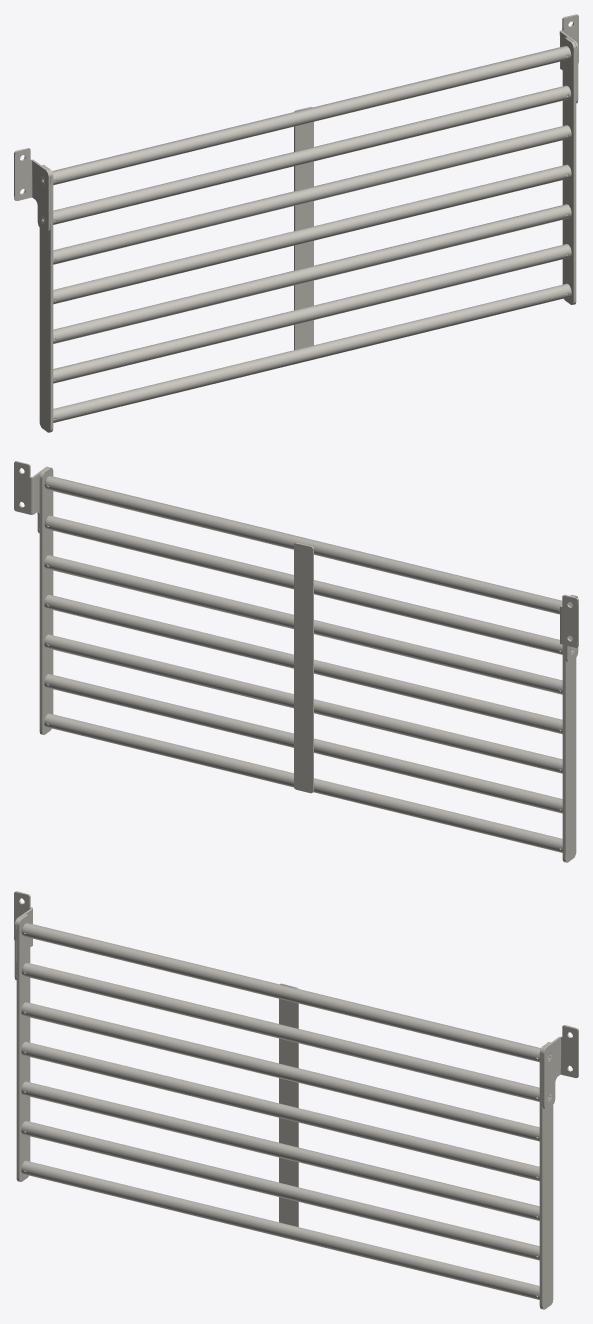
Rendered from i KEA_ KUNGSFORS Rejilla de pared.glb.
3 views of the same model, one above another, from view 1: azimuth 30°, elevation 25°; view 2: azimuth 150°, elevation 25°; view 3: azimuth 330°, elevation 25° (orthographic).
Parts seen in each view (by area): view 1: model; view 2: model; view 3: model.
Boxes of the visible parts, left/top/right/bottom form: model: left=14, top=14, right=578, bottom=432; model: left=14, top=461, right=578, bottom=862; model: left=14, top=891, right=578, bottom=1309.
Bounding box in the file's own units: 0.5955 × 0.2776 × 0.032.
1 material, 1 textured.
